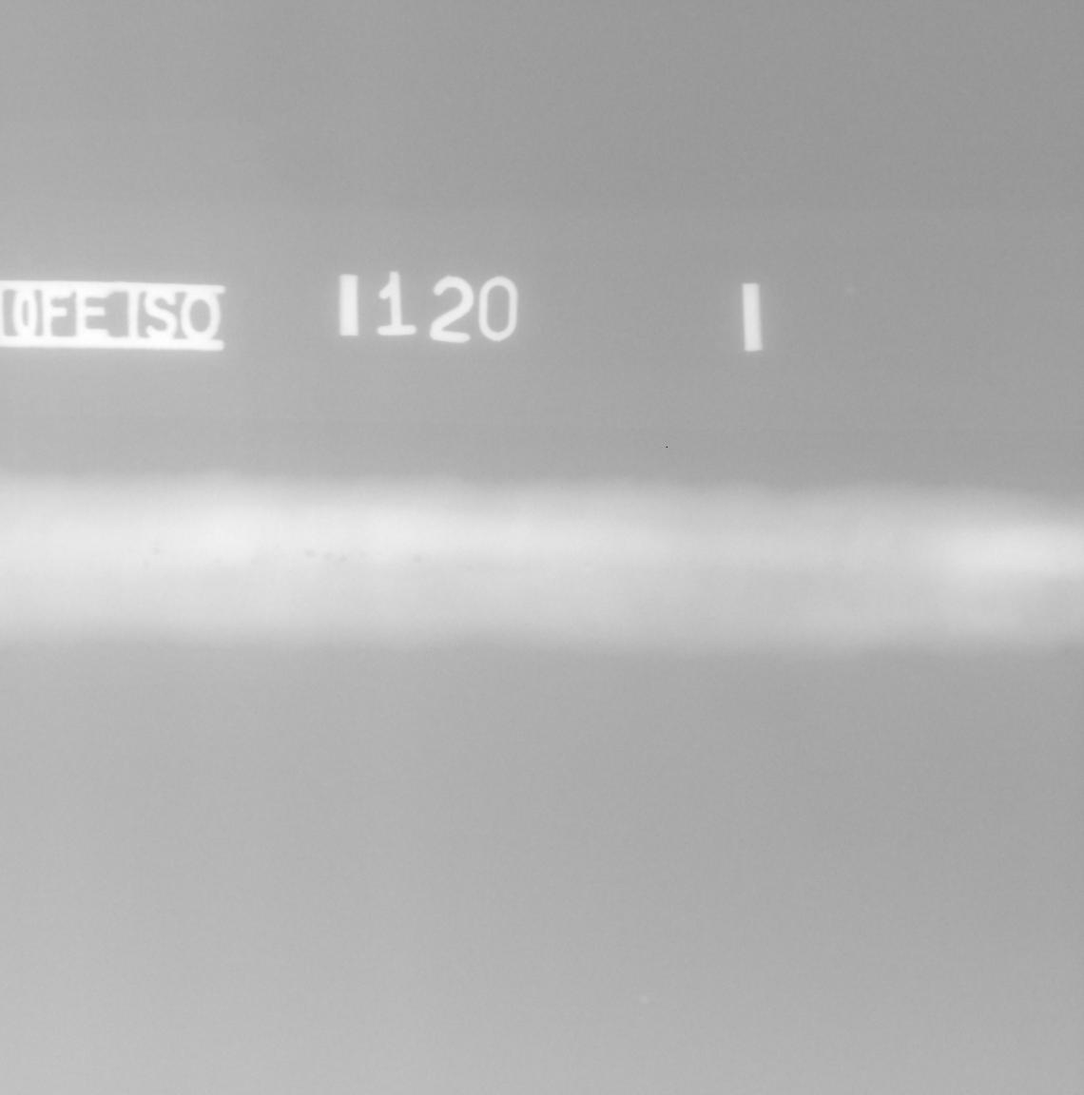Inclusion: (142, 558, 152, 570), (154, 538, 162, 546)
Pore/Porosity: (412, 554, 426, 566), (303, 548, 317, 559), (211, 557, 223, 568), (151, 547, 164, 556), (250, 556, 261, 566), (324, 551, 334, 561), (359, 551, 371, 557), (340, 556, 350, 563), (276, 546, 279, 550)
